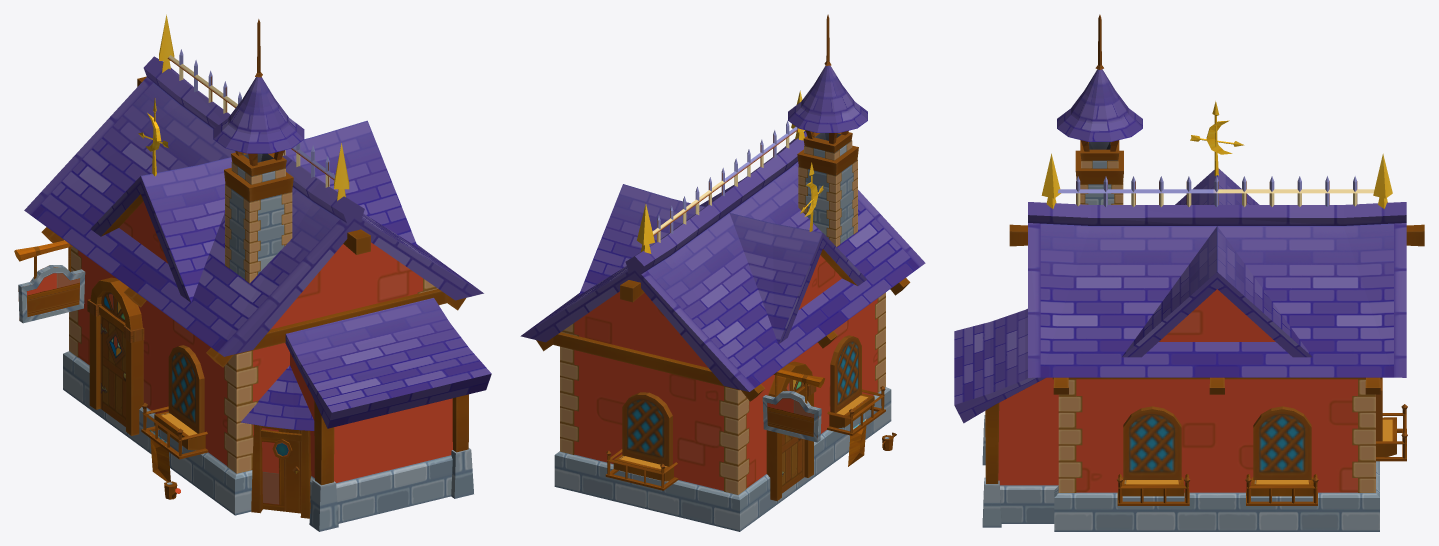
File: HOS0110007.FBX
3 renders of one model, left to right at view 1: azimuth 30°, elevation 25°; view 2: azimuth 150°, elevation 25°; view 3: azimuth 270°, elevation 25°, orthographic. The views are drawn at different scales.
Visible parts, largest first — view 1: smHOS0110007; view 2: smHOS0110007; view 3: smHOS0110007.
Part boxes in pixels (x1,y1,x2,y2): smHOS0110007: (14,14,491,531); smHOS0110007: (520,14,925,531); smHOS0110007: (954,14,1424,531).
Size of the model in its own units: 722 by 1053 by 1013.
Materials: 1 (1 with a texture image).
